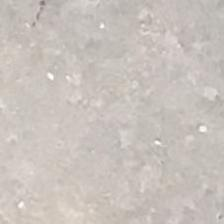Non_Crack: (28, 40, 200, 157)
